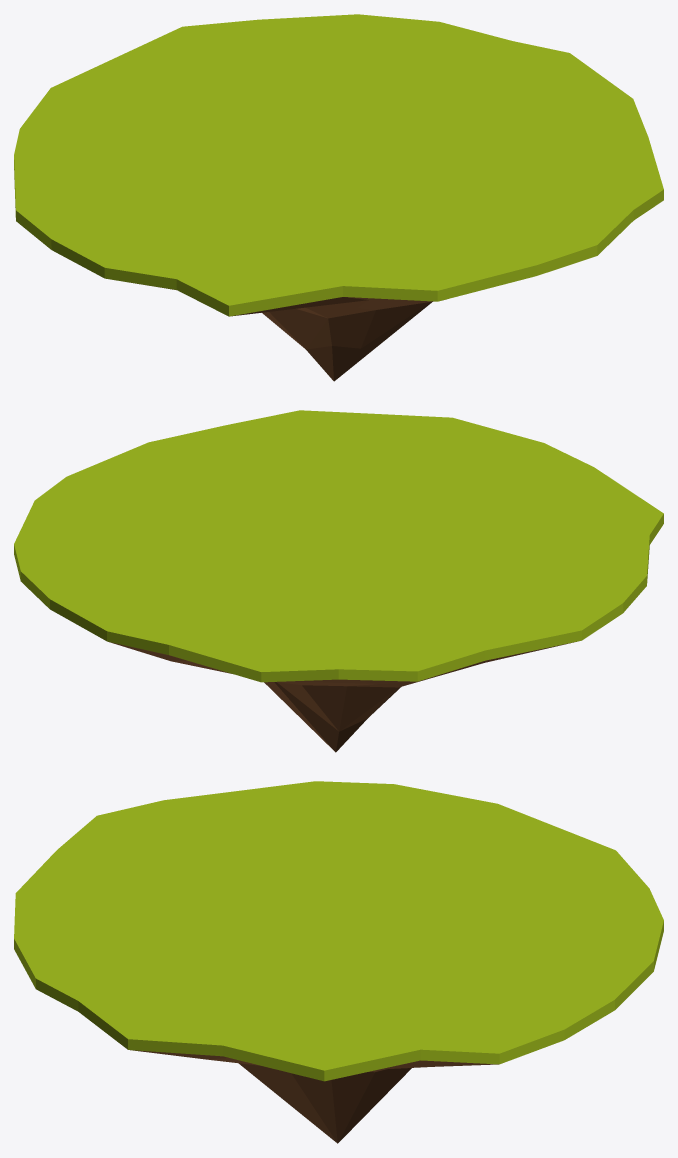
The model's file is island.glb.
The picture shows the model from 3 angles, top to bottom: view 1: azimuth 30°, elevation 25°; view 2: azimuth 150°, elevation 25°; view 3: azimuth 270°, elevation 25°; orthographic projection. The views are drawn at different scales.
Parts seen in each view (by area): view 1: Cylinder.001, Cylinder; view 2: Cylinder.001, Cylinder; view 3: Cylinder.001, Cylinder.
Boxes of the visible parts, x1,y1,x2,y2 form: Cylinder.001: (14,14,663,316); Cylinder: (137,283,433,381); Cylinder.001: (14,410,663,682); Cylinder: (109,641,576,752); Cylinder.001: (14,781,663,1081); Cylinder: (130,1050,498,1143).
Size of the model in its own units: 19 by 7.17 by 18.4.
